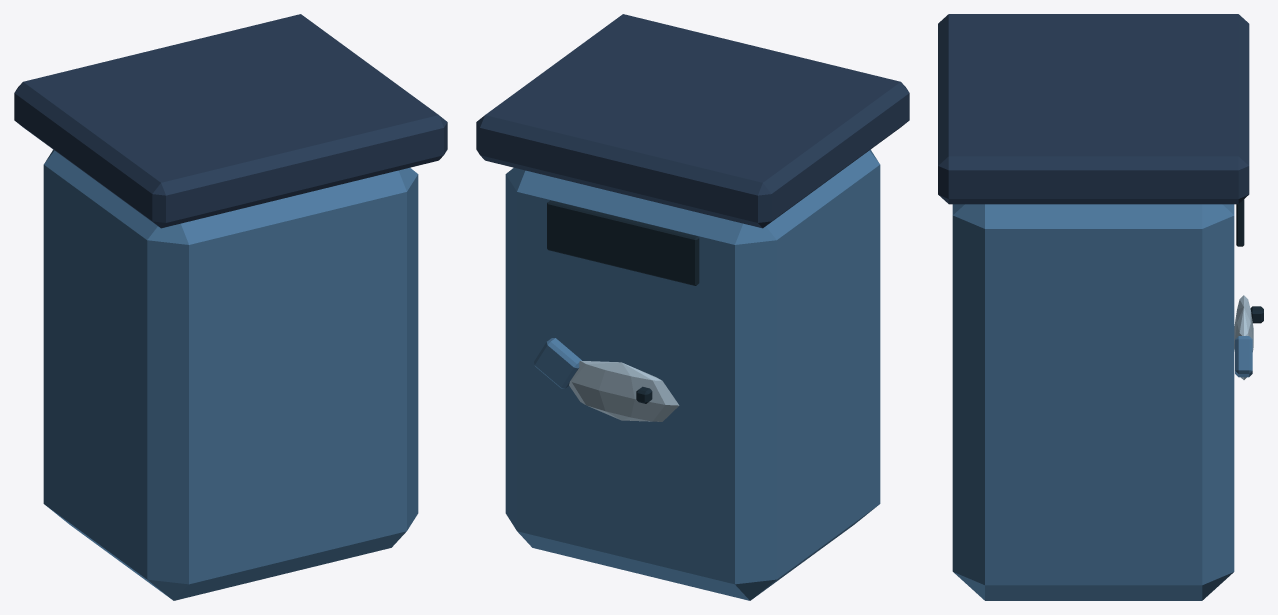
The model's file is trash_bin.glb.
3 renders of one model, left to right at view 1: azimuth 30°, elevation 25°; view 2: azimuth 150°, elevation 25°; view 3: azimuth 270°, elevation 25°, orthographic. The views are drawn at different scales.
Visible parts, largest first — view 1: body, lid; view 2: body, lid, opening, whale_badge, tail_left; view 3: body, lid, tail_left, whale_badge.
Part boxes in pixels (bbox=[...]): body: bbox=[43, 149, 418, 600]; lid: bbox=[14, 14, 447, 228]; body: bbox=[505, 149, 880, 600]; lid: bbox=[476, 14, 909, 228]; opening: bbox=[547, 200, 699, 285]; whale_badge: bbox=[569, 360, 679, 421]; tail_left: bbox=[534, 338, 581, 388]; body: bbox=[952, 204, 1234, 600]; lid: bbox=[938, 14, 1249, 204]; tail_left: bbox=[1235, 336, 1252, 377]; whale_badge: bbox=[1234, 295, 1253, 379].
Bounding box in the file's own units: 0.61 × 0.865 × 0.555.
